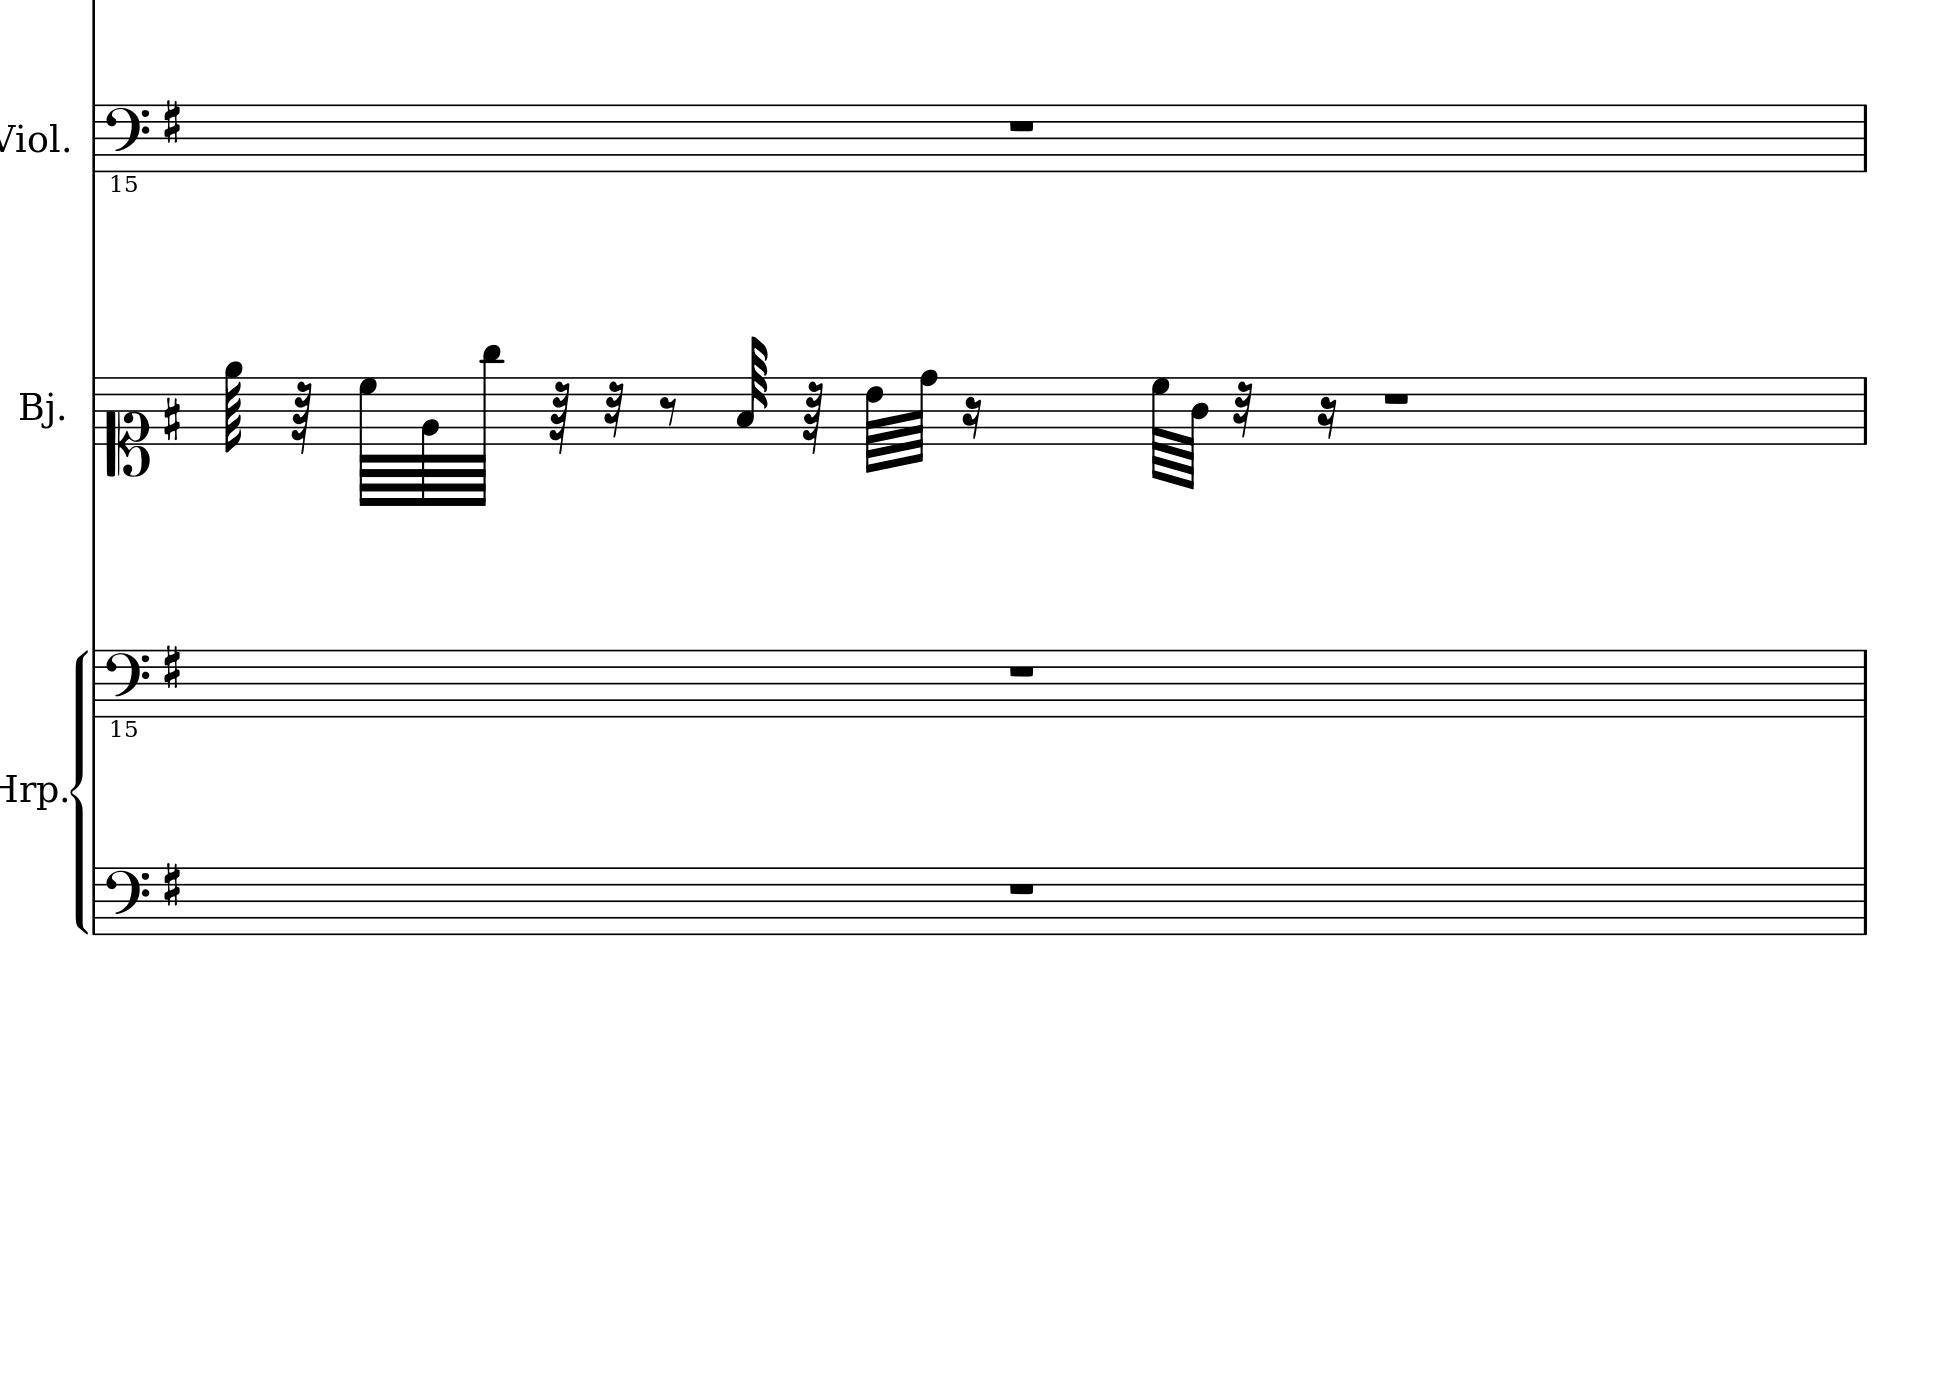32_7: (1150, 375, 1173, 483)
64_11: (469, 340, 505, 510)
64_2: (418, 370, 445, 510)
64_3: (733, 336, 769, 445)
64_4: (1182, 372, 1212, 490)
64_6: (864, 376, 885, 475)
64_7: (358, 375, 379, 508)
64_8: (907, 367, 937, 466)
64_9: (223, 361, 244, 454)
Brace: (69, 648, 88, 936)
DLower_Fclef: (100, 102, 150, 198), (102, 646, 148, 742)
Fclef: (102, 865, 151, 918)
Hrp: (1, 769, 58, 810)
Rests1: (1005, 877, 1038, 898), (1005, 115, 1038, 135), (1380, 388, 1413, 408), (1005, 661, 1038, 679)
Rests16: (961, 394, 984, 441), (1317, 394, 1339, 441)
Rests32: (601, 379, 625, 441), (1231, 379, 1254, 439)
Rests64: (801, 379, 825, 456), (289, 379, 313, 454), (547, 379, 571, 454)
Rests8: (657, 394, 679, 427)
Sharp: (159, 640, 184, 691), (159, 96, 184, 145), (160, 394, 183, 444), (160, 859, 183, 909)
Single_barline: (1857, 103, 1873, 171), (85, 376, 102, 444), (1857, 376, 1873, 444), (87, 649, 103, 715), (1857, 649, 1873, 715), (1857, 868, 1873, 933), (88, 105, 102, 171), (88, 868, 102, 934)
Soprano_Cclef: (103, 373, 151, 478)
